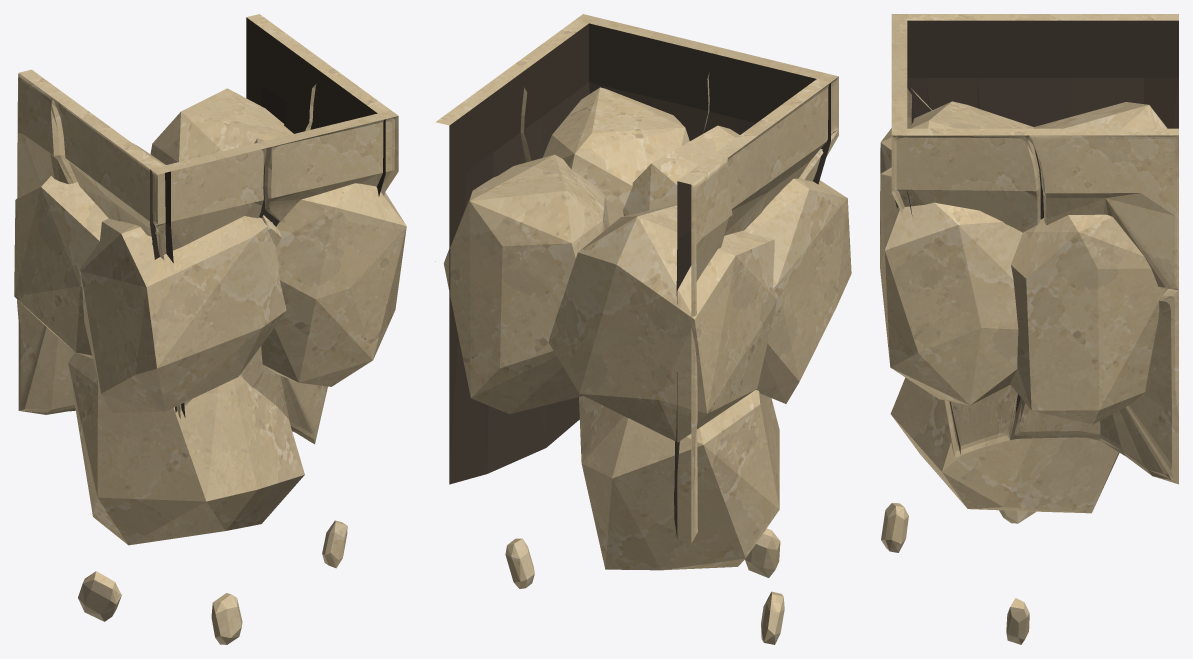
The model's file is ground_bottom_square_end_09.glb.
3 views of the same model, side by side, from view 1: azimuth 30°, elevation 25°; view 2: azimuth 150°, elevation 25°; view 3: azimuth 270°, elevation 25° (orthographic). The views are drawn at different scales.
Parts seen in each view (by area): view 1: GroundBottomSquareEnd09_Body; view 2: GroundBottomSquareEnd09_Body; view 3: GroundBottomSquareEnd09_Body.
Part boxes in pixels (x1,y1,x2,y2): GroundBottomSquareEnd09_Body: (14, 14, 406, 644); GroundBottomSquareEnd09_Body: (435, 14, 851, 644); GroundBottomSquareEnd09_Body: (880, 14, 1178, 644).
Size of the model in its own units: 1.08 by 1.96 by 1.04.
Materials: 11 (10 with a texture image).
